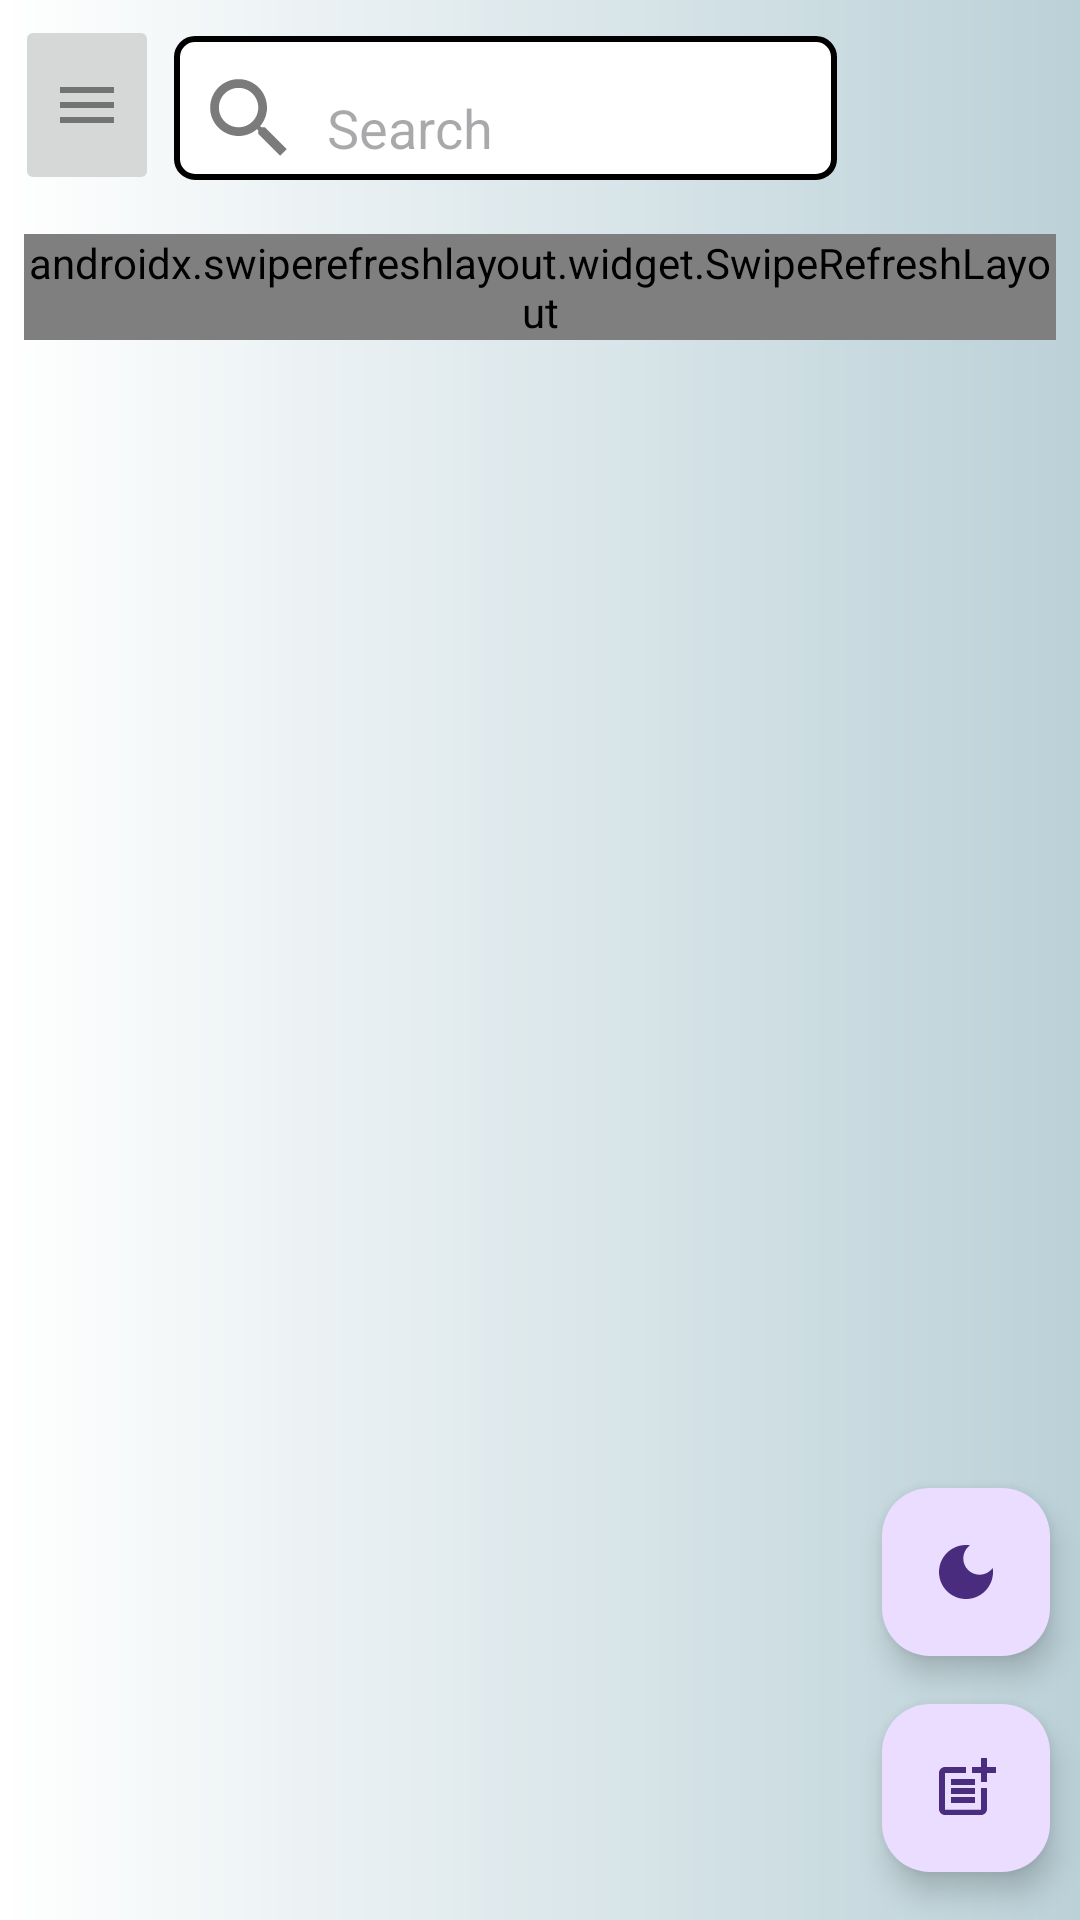

Locate icon controls on the screen. Image size 1080px×1920px, boxes as box=[x1, y1, x2, y2].
Add post: box=[882, 1704, 1050, 1872]
Menu: box=[27, 33, 147, 177]
mode: box=[882, 1488, 1050, 1656]
